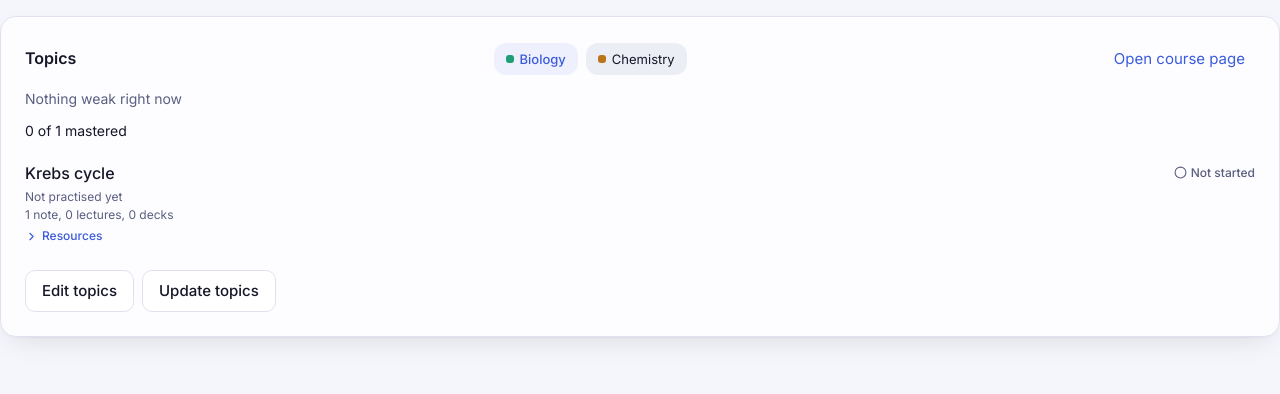
Topics section › Edit topics opens the saved list; Cancel leaves it as it was
Click the button "Edit topics".
click(80, 291)  # box x1=25 y1=270 x2=134 y2=312
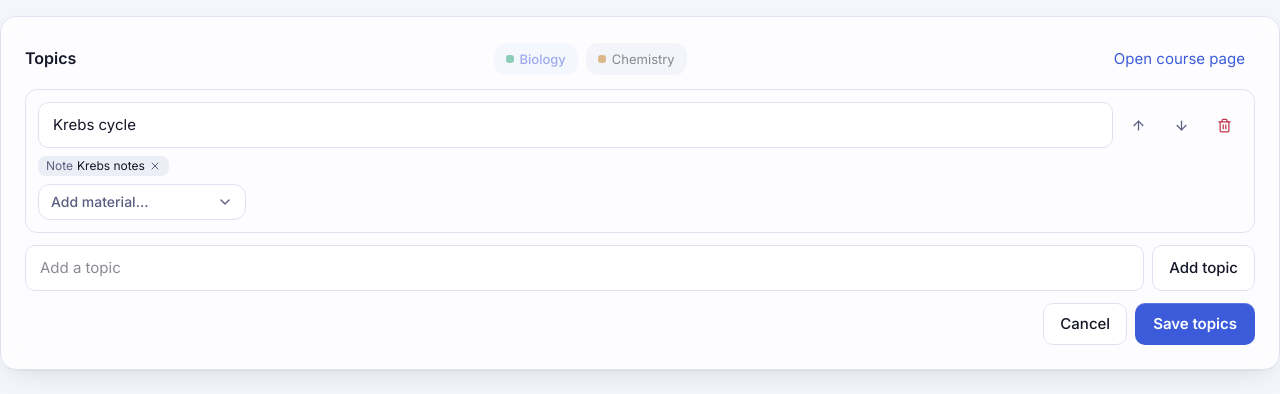
Replace the text in the field named "Topic 1 name" with "Changed" at (576, 125), box x1=38 y1=102 x2=1113 y2=148
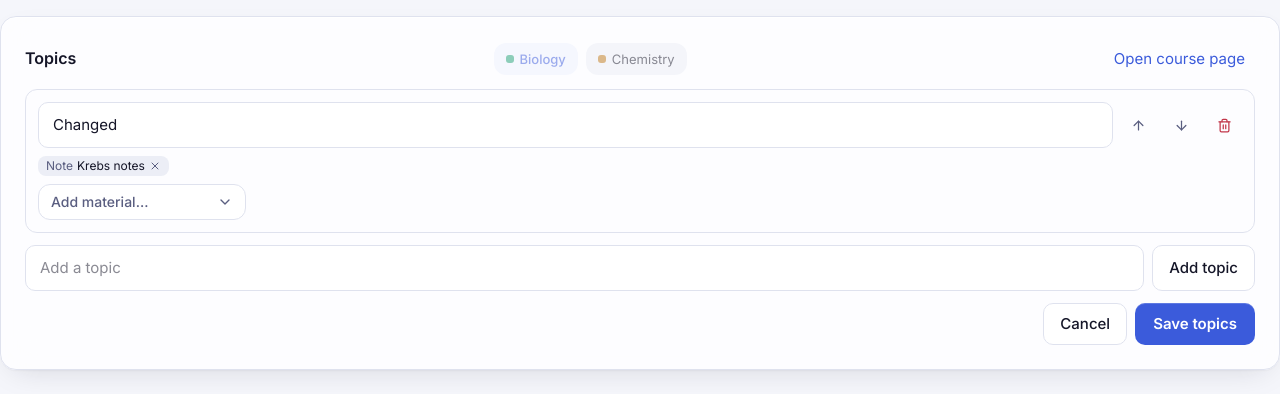
Click the button "Cancel".
click(1085, 324)  # box x1=1043 y1=303 x2=1127 y2=345
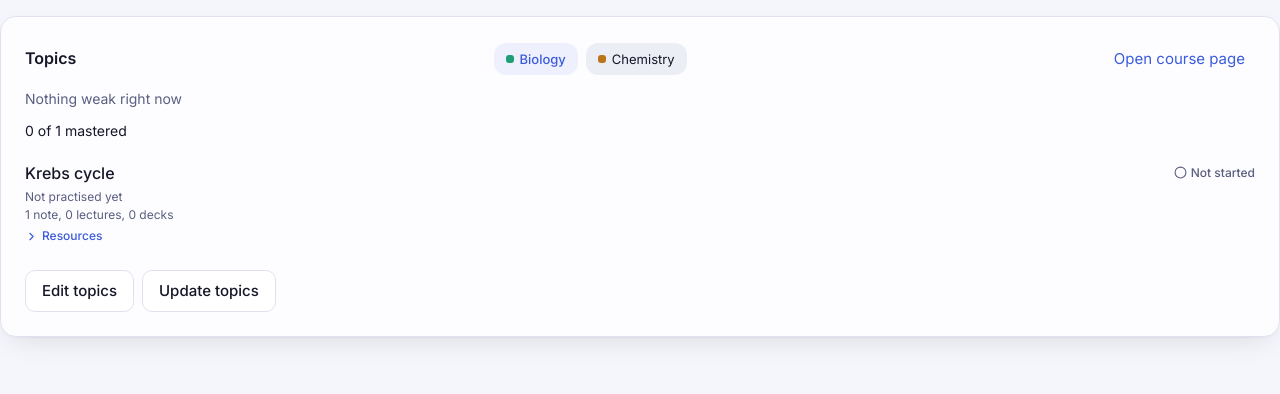
Expected: the list item "Krebs cycle" is shown, x1=25 y1=153 x2=1255 y2=258
